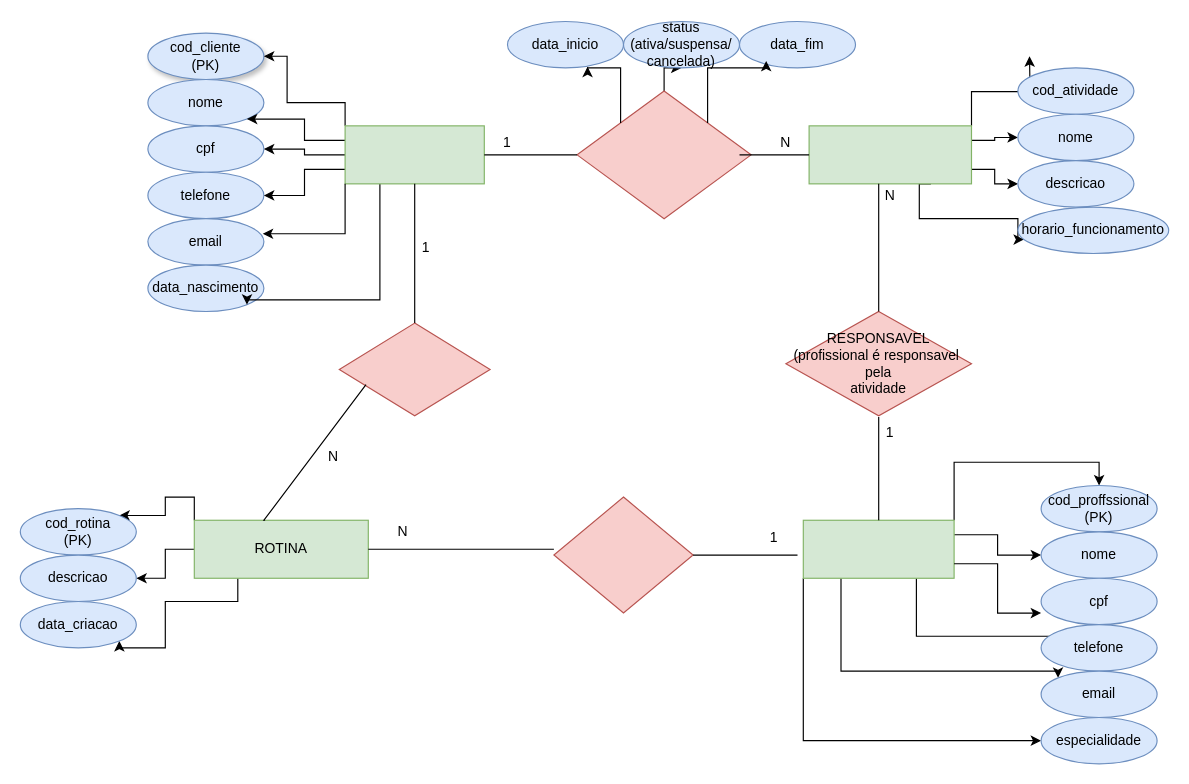
Some shapes in this 1189 by 784 pixel diagram are drawn without their labels. The centre of each missing label's shape, as x and y in pixels:
"ATIVIDADE" goes at [889,154].
"CLIENTE" goes at [414,154].
"ELABORA (profissional elabora rotina pra cliente" goes at [623,554].
"PARTICIPAÇÃO (cliente participa de atividade)" goes at [663,154].
"POSSUI (cliente possui rotina)" goes at [414,369].
"PROFISSIONAL" goes at [878,548].
